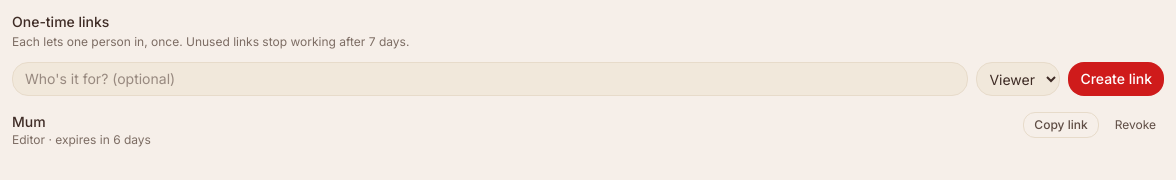
Test: OneTimeLinks — the unused ones › says why a link couldn't be revoked
The image size is (1176, 180).
Click the button with aria-label "Revoke link for Mum" at (1135, 125), box [1107,113,1164,137]
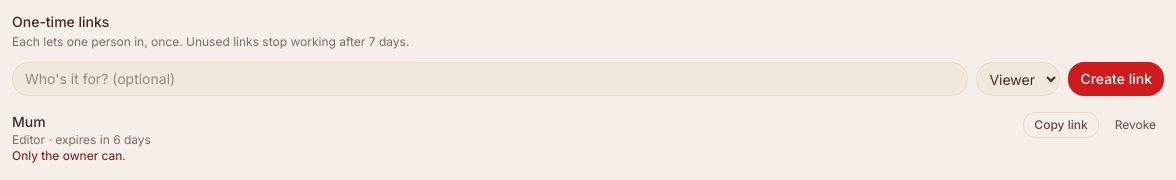
Now the message reads "Only the owner can.", box [12,148,126,163]
